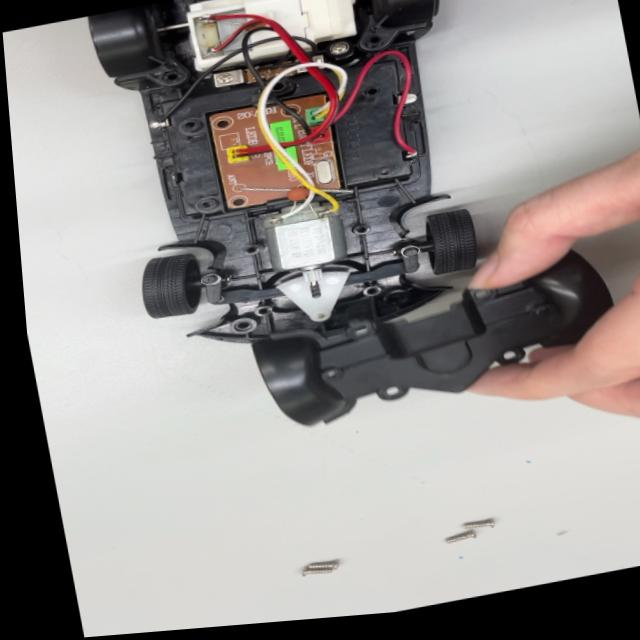Chassis: (121, 0, 457, 358)
motor: (254, 197, 369, 301)
motor_cover: (237, 249, 627, 446)
screw: (285, 551, 350, 589), (431, 526, 487, 558), (450, 509, 505, 537)
wheel: (123, 244, 226, 330), (404, 197, 496, 280)
